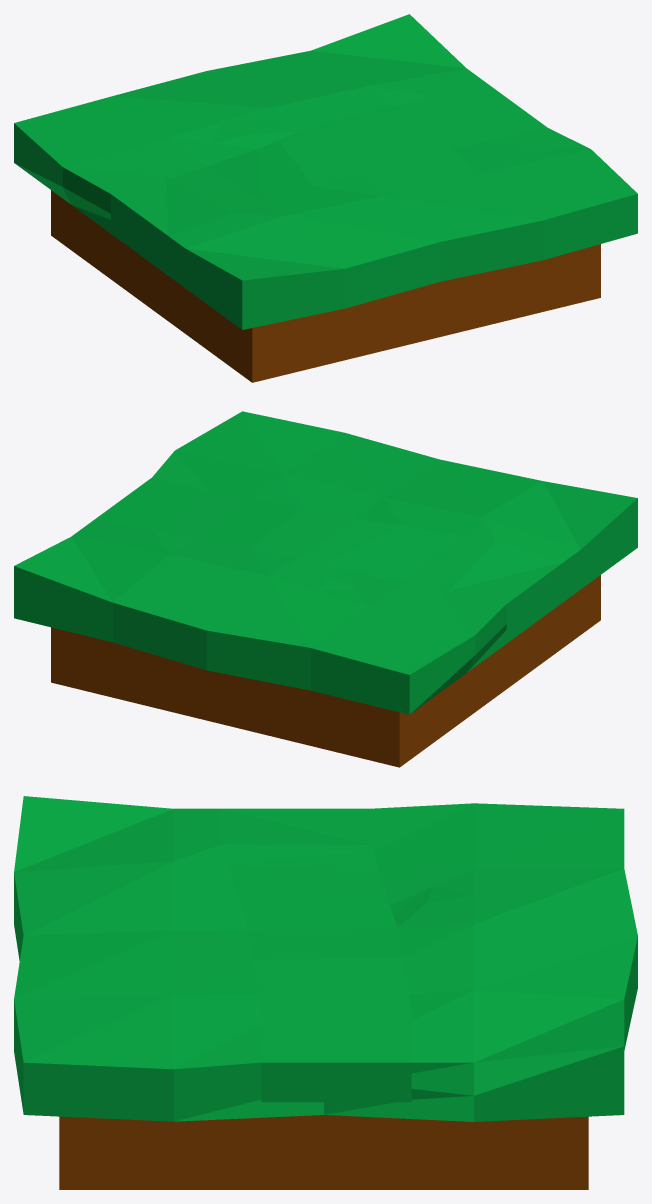
The model's file is nova_tabla1.fbx.
The picture shows the model from 3 angles, top to bottom: view 1: azimuth 30°, elevation 25°; view 2: azimuth 150°, elevation 25°; view 3: azimuth 270°, elevation 25°; orthographic projection. The views are drawn at different scales.
Visible parts, largest first — view 1: Cube.001; view 2: Cube.001; view 3: Cube.001.
Part boxes in pixels (box(x1,y1,x2,y2)): Cube.001: box(14, 14, 637, 382); Cube.001: box(14, 411, 637, 767); Cube.001: box(14, 796, 637, 1189).
Size of the model in its own units: 6712 by 1867 by 6647.
